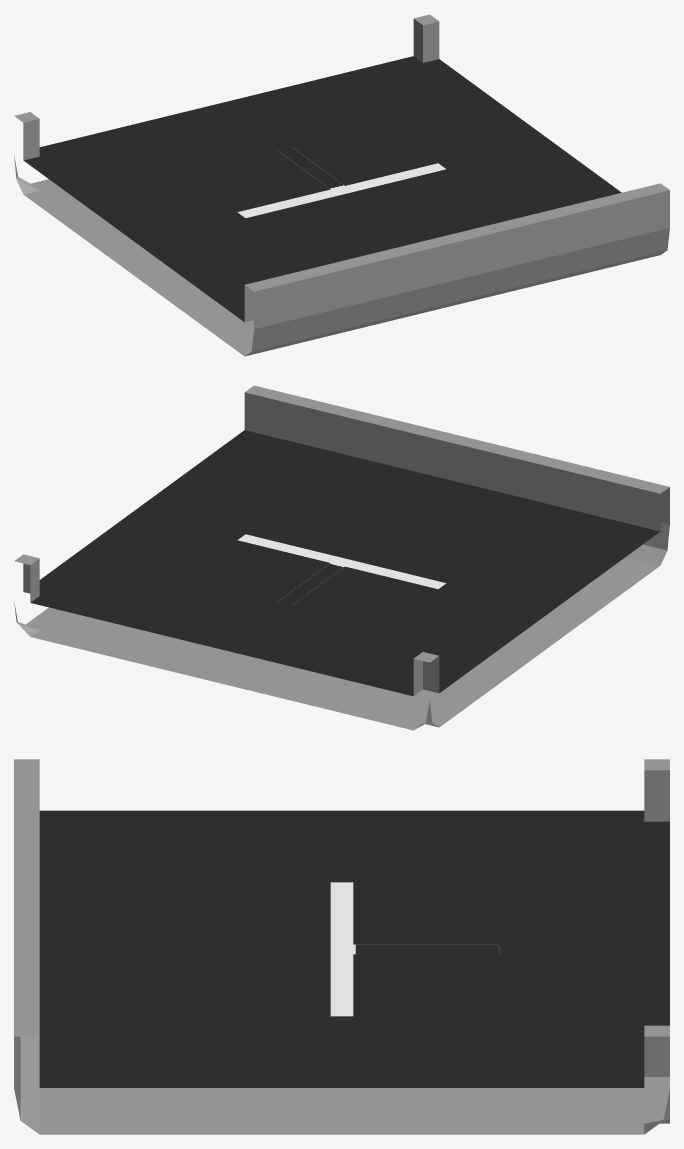
The picture shows the model from 3 angles, top to bottom: view 1: azimuth 30°, elevation 25°; view 2: azimuth 150°, elevation 25°; view 3: azimuth 270°, elevation 25°; orthographic projection. The views are drawn at different scales.
Visible parts, largest first — view 1: 1x1t-col; view 2: 1x1t-col; view 3: 1x1t-col.
Part boxes in pixels (x1,y1,x2,y2): 1x1t-col: (14,14,669,356); 1x1t-col: (14,385,669,730); 1x1t-col: (14,759,669,1134).
Size of the model in its own units: 20 by 3.3 by 20.
Materials: 1 (1 with a texture image).
